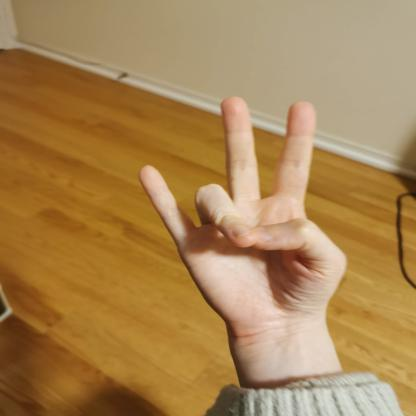seven: (130, 90, 356, 346)
